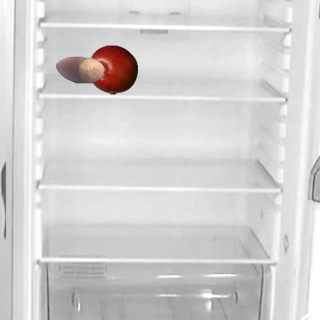Apple Braeburn: (87, 44, 137, 94)
Hazelnut: (54, 44, 104, 94)
